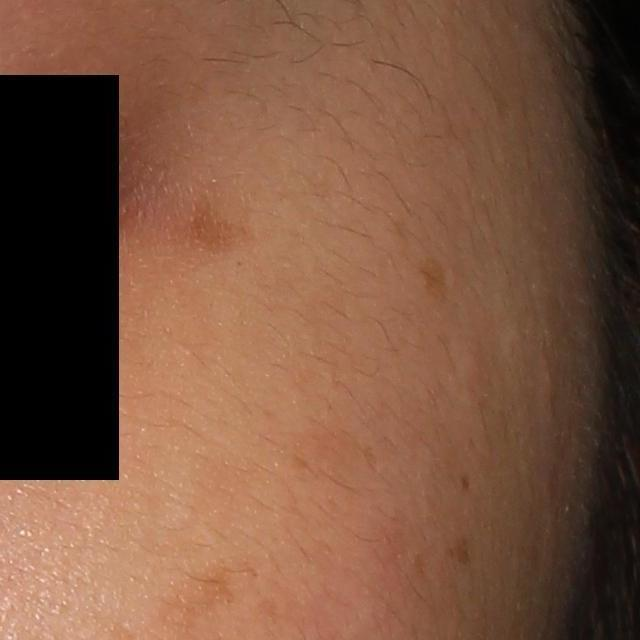melasma: (184, 180, 257, 254), (412, 251, 454, 302), (440, 531, 473, 568)
